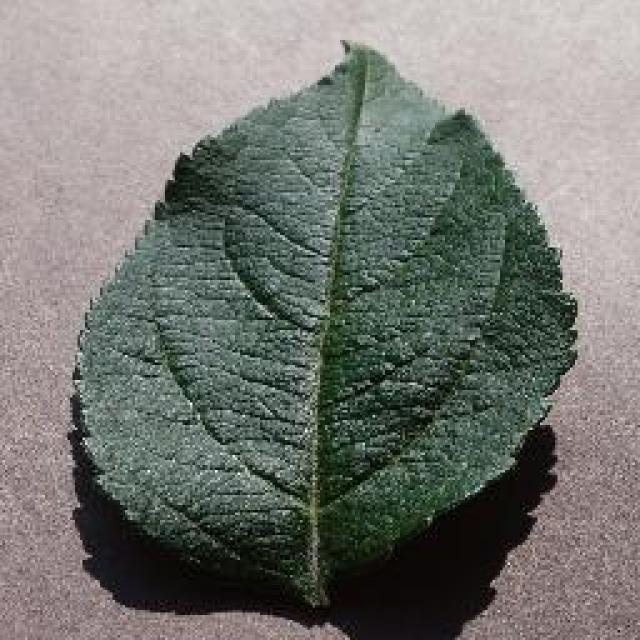apple healthy: (68, 35, 580, 610)
